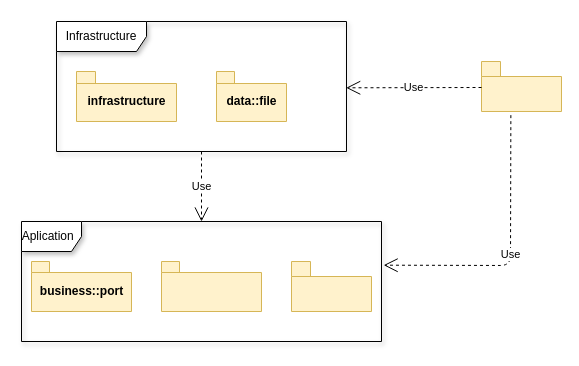
The diagram is 579 pixels wide and 366 high, and some of its shapes have lost their labels. Each missing label, with the centre of its shape:
business::dto: the point at 211,286
common: the point at 331,286
test: the point at 521,86
